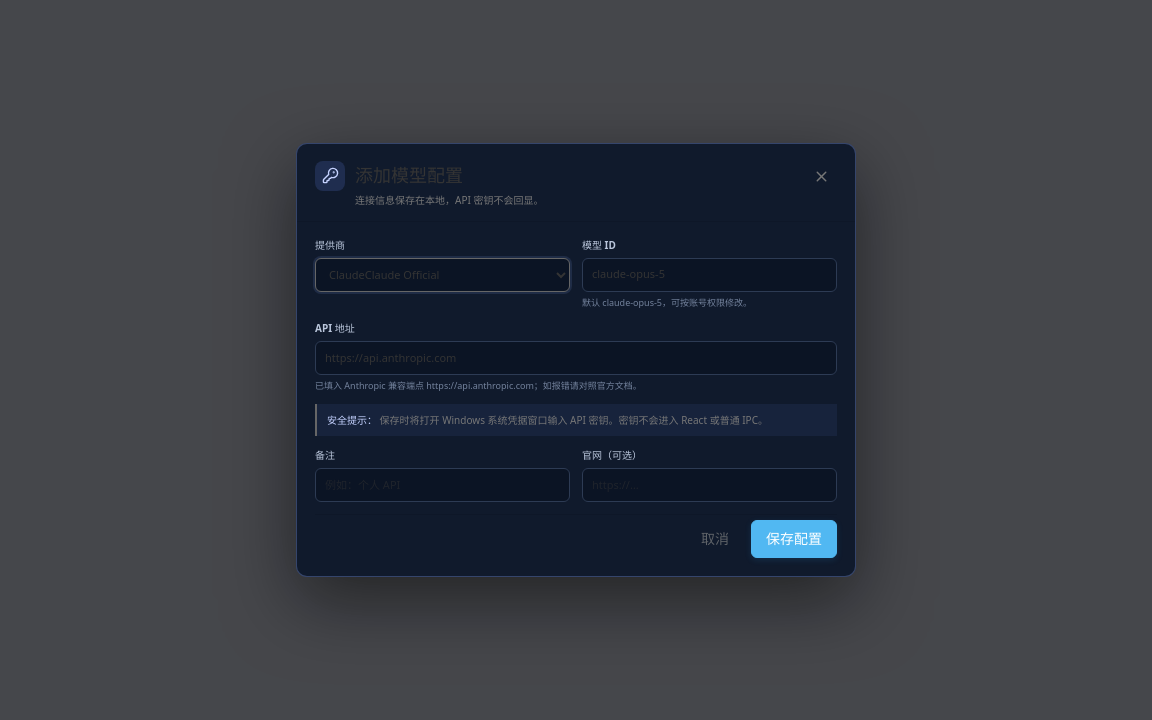
Test: AddModelDialog › prefills Zhipu GLM (智谱) endpoint and model
The width and height of the screenshot is (1152, 720).
Select "Zhipu GLM" in the dropdown labelled "提供商" at (442, 275), box 315,258 -> 570,292
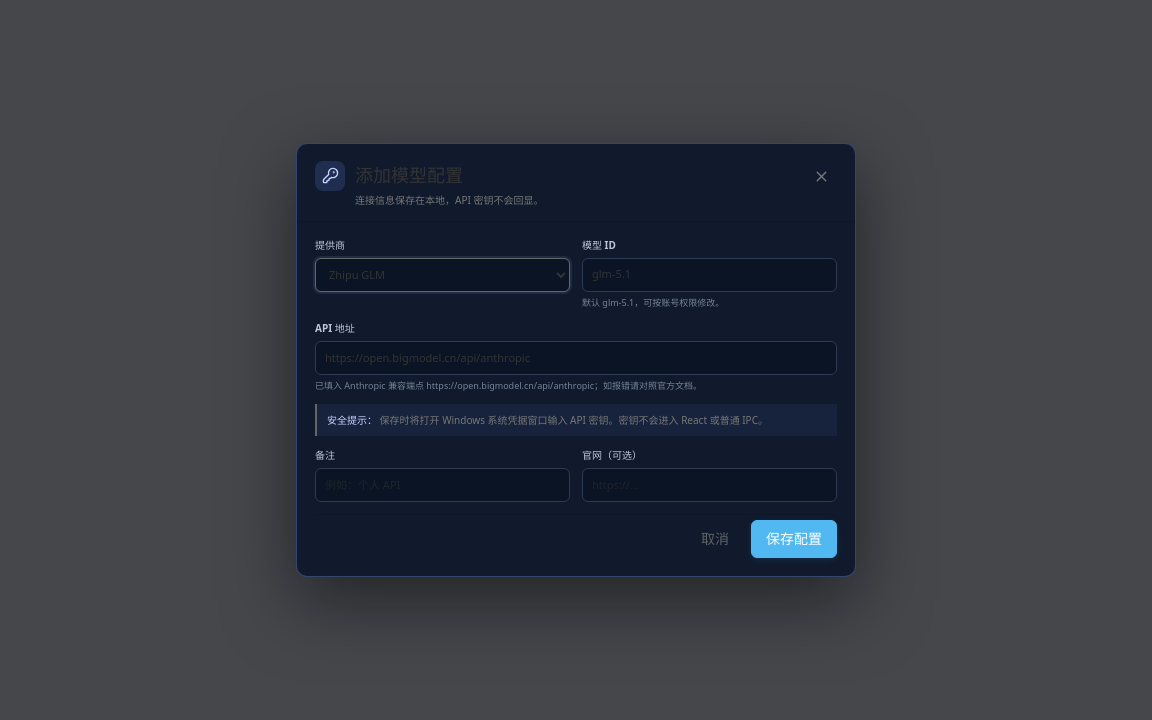
Expected: the field labelled "API 地址" holds "https://open.bigmodel.cn/api/anthropic", 315,341 -> 837,375
Expected: the field labelled "模型 ID 默认 glm-5.1，可按账号权限修改。" holds "glm-5.1", 582,258 -> 837,292
